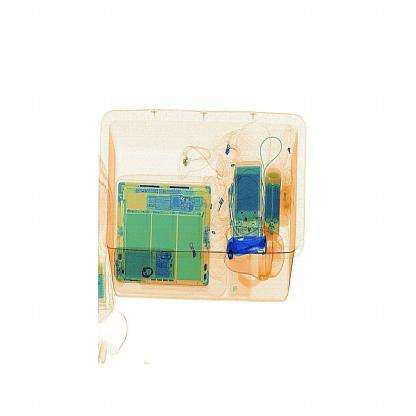knife: (223, 232, 272, 258)
